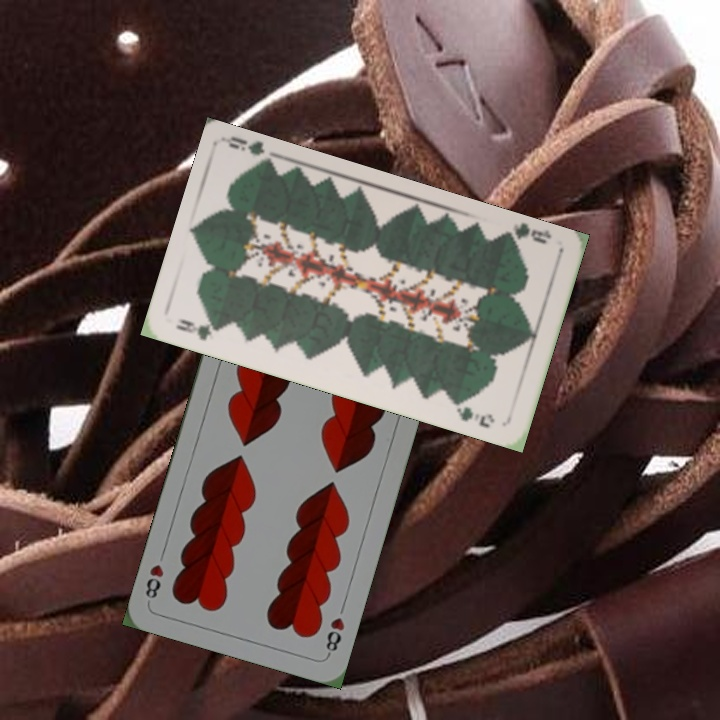G9: (500, 219, 554, 248), (171, 315, 226, 343)
H8: (321, 613, 347, 659)
